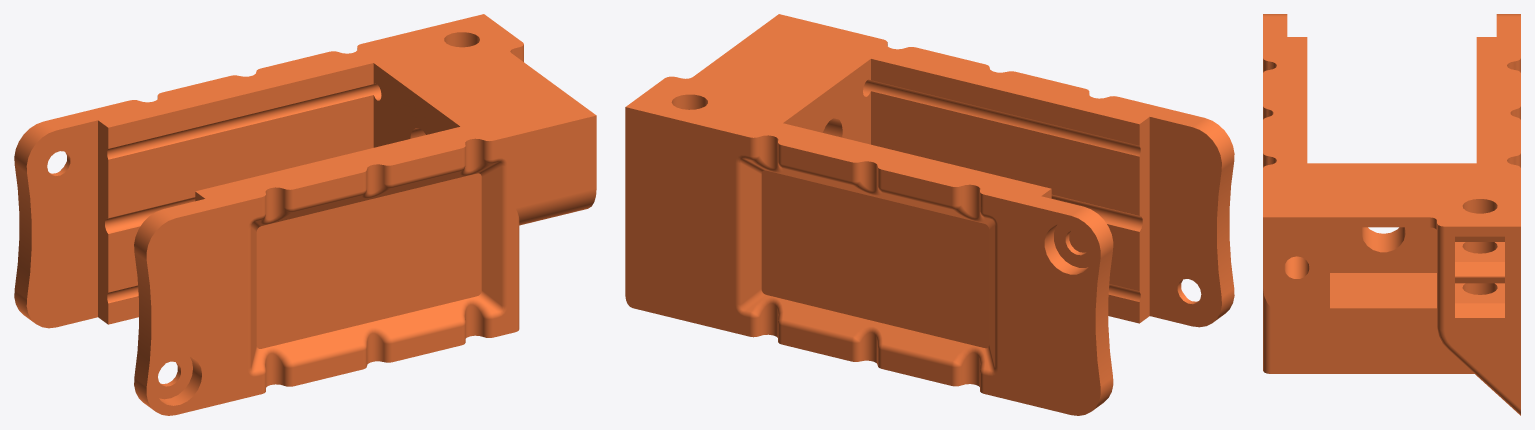
File: XYZ Stage V5_Y Stage Body v5.obj
3 renders of one model, left to right at view 1: azimuth 30°, elevation 25°; view 2: azimuth 150°, elevation 25°; view 3: azimuth 270°, elevation 25°, orthographic. The views are drawn at different scales.
Visible parts, largest first — view 1: Solid1:5; view 2: Solid1:5; view 3: Solid1:5.
Part boxes in pixels (box(x1,y1,x2,y2)): Solid1:5: box(14, 14, 596, 415); Solid1:5: box(625, 14, 1234, 415); Solid1:5: box(1263, 14, 1520, 415).
Bounding box in the file's own units: 60.02 × 24.05 × 29.25.
